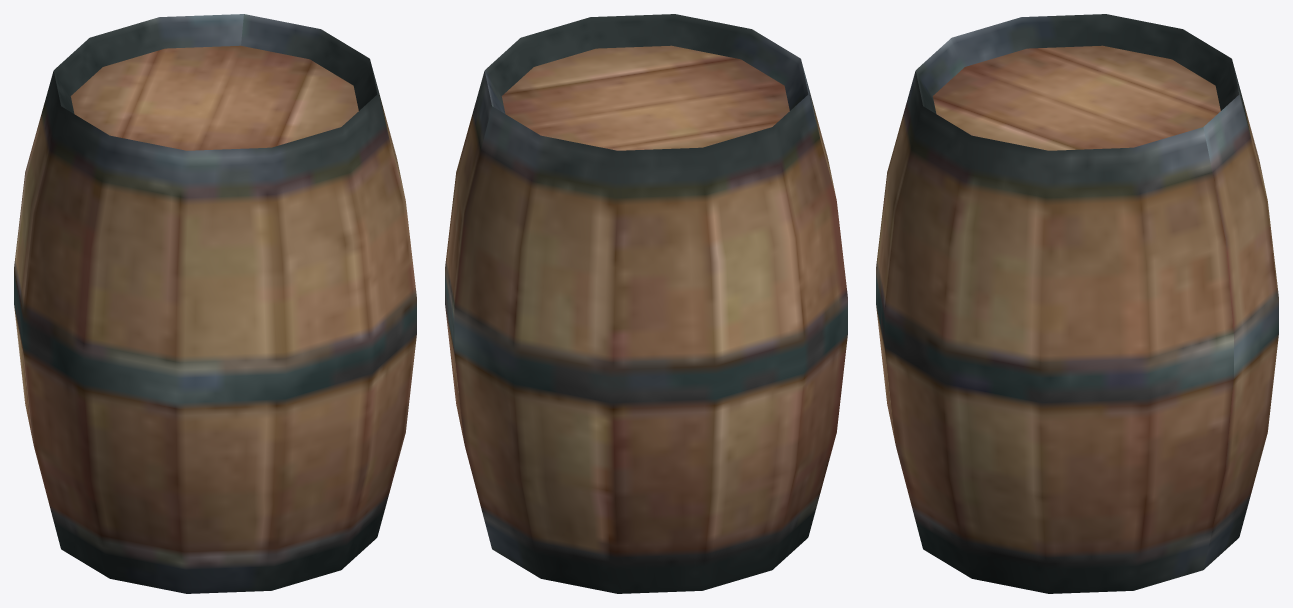
File: com_barrel_01.fbx
3 renders of one model, left to right at view 1: azimuth 30°, elevation 25°; view 2: azimuth 150°, elevation 25°; view 3: azimuth 270°, elevation 25°, orthographic.
Parts seen in each view (by area): view 1: com_barrel_01; view 2: com_barrel_01; view 3: com_barrel_01.
Boxes of the visible parts, <box> form: com_barrel_01: <box>14,14,416,593</box>; com_barrel_01: <box>445,14,847,593</box>; com_barrel_01: <box>876,14,1278,593</box>.
Bounding box in the file's own units: 1.04 × 1.26 × 1.04.
Materials: 1 (1 with a texture image).
